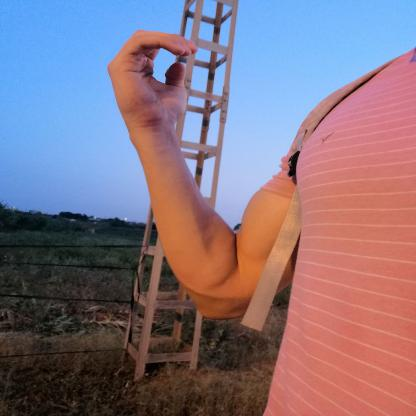JEEM: (94, 23, 206, 139)
